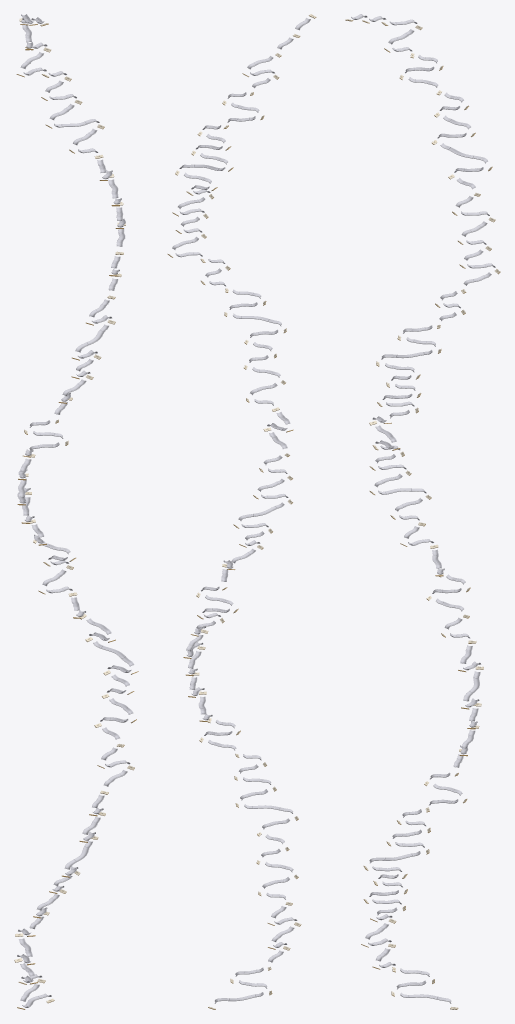
File: C-route-v027-08.glb
3 renders of one model, left to right at view 1: azimuth 30°, elevation 25°; view 2: azimuth 150°, elevation 25°; view 3: azimuth 330°, elevation 25°, orthographic. The views are drawn at different scales.
Bounding box in the file's own units: 0.409 × 3.32 × 0.3234.
Materials: 5 (1 with a texture image).
